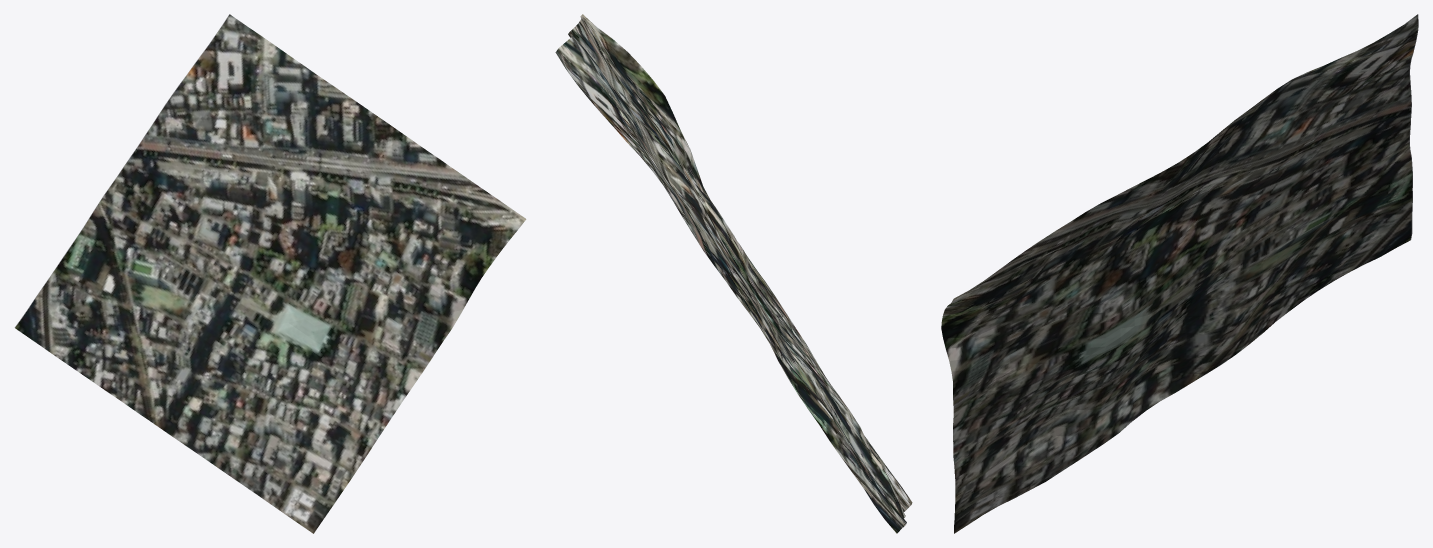
The picture shows the model from 3 angles, left to right: view 1: azimuth 30°, elevation 25°; view 2: azimuth 150°, elevation 25°; view 3: azimuth 270°, elevation 25°; orthographic projection. The views are drawn at different scales.
Bounding box in the file's own units: 540 × 559 × 422.
1 material, 1 textured.
